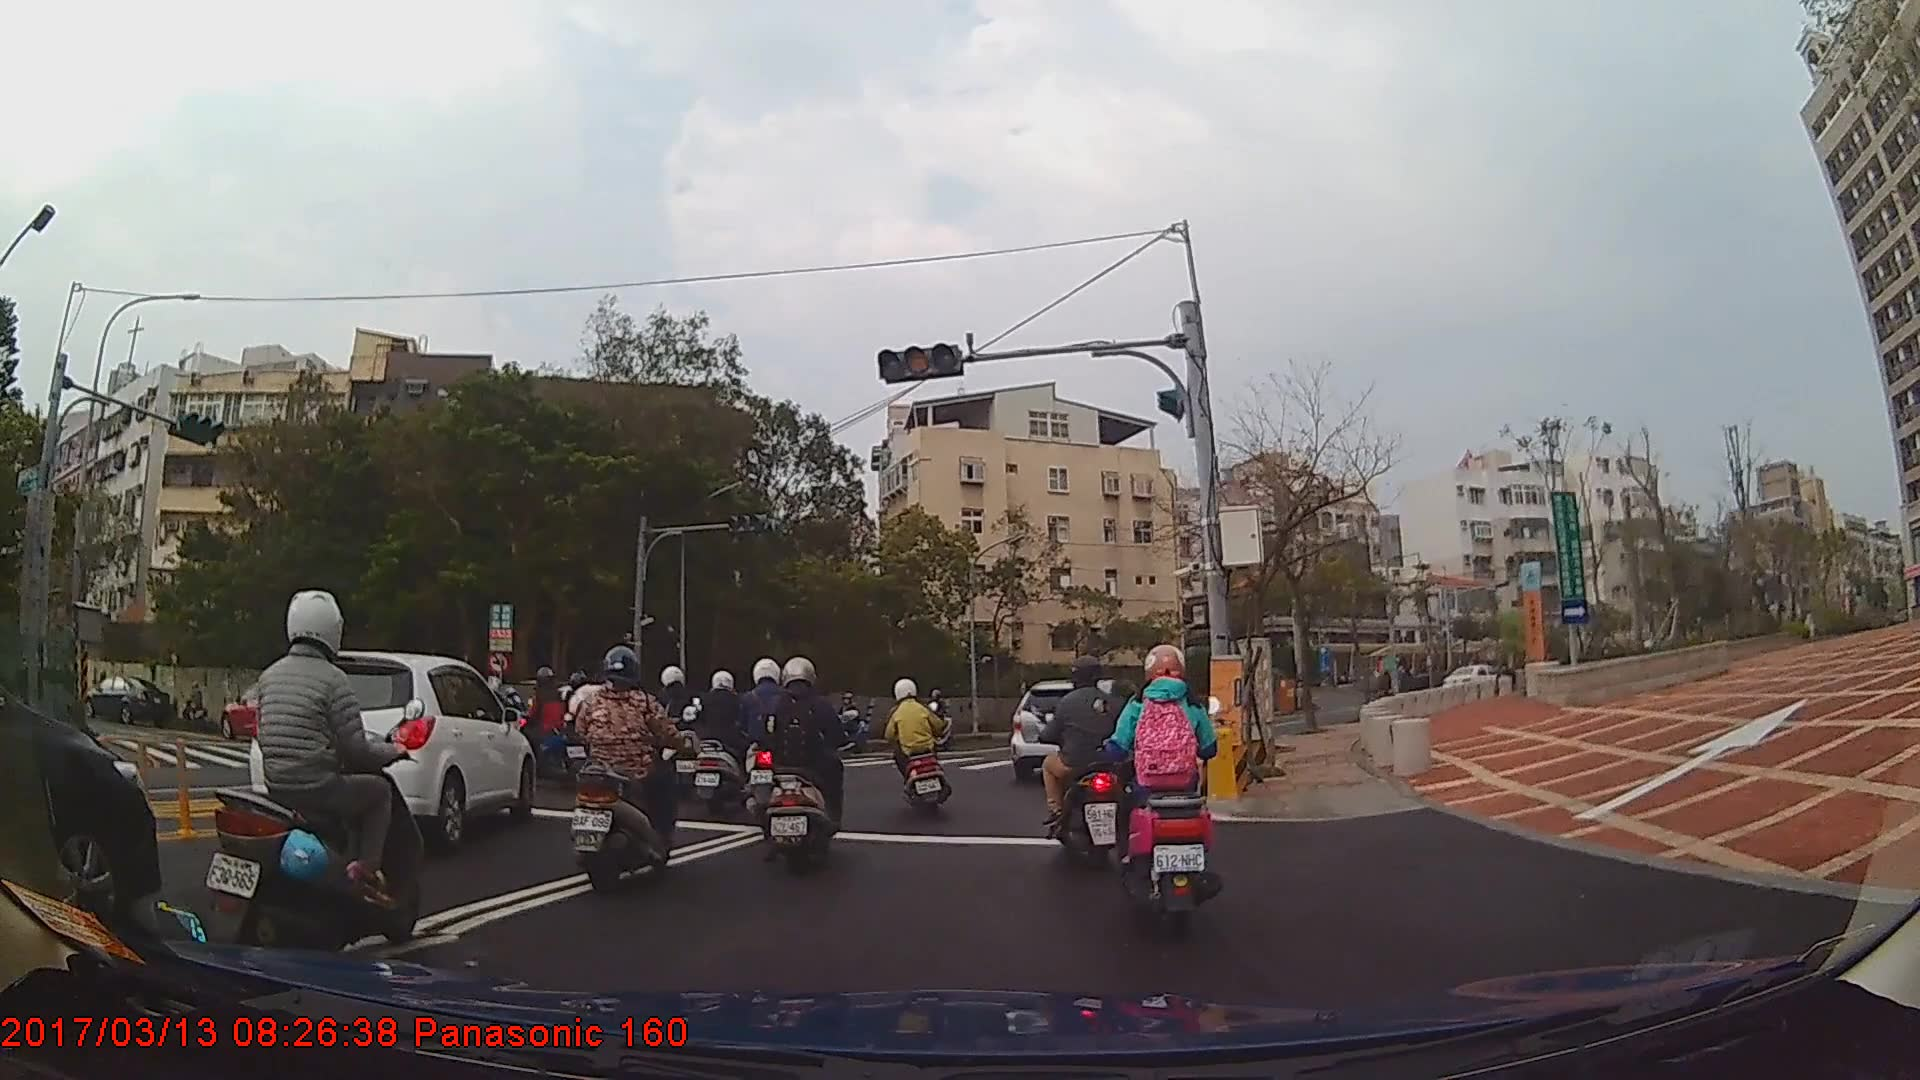rider: (207, 592, 430, 966), (1110, 641, 1222, 921), (569, 648, 687, 902), (1035, 655, 1138, 867), (760, 656, 850, 876), (734, 657, 799, 831), (880, 677, 958, 819), (504, 667, 585, 788), (692, 673, 759, 814), (639, 663, 705, 795), (832, 694, 868, 754)
vehicle: (246, 651, 535, 849), (0, 664, 160, 949), (1009, 679, 1143, 779), (219, 677, 321, 739), (73, 673, 172, 723)
